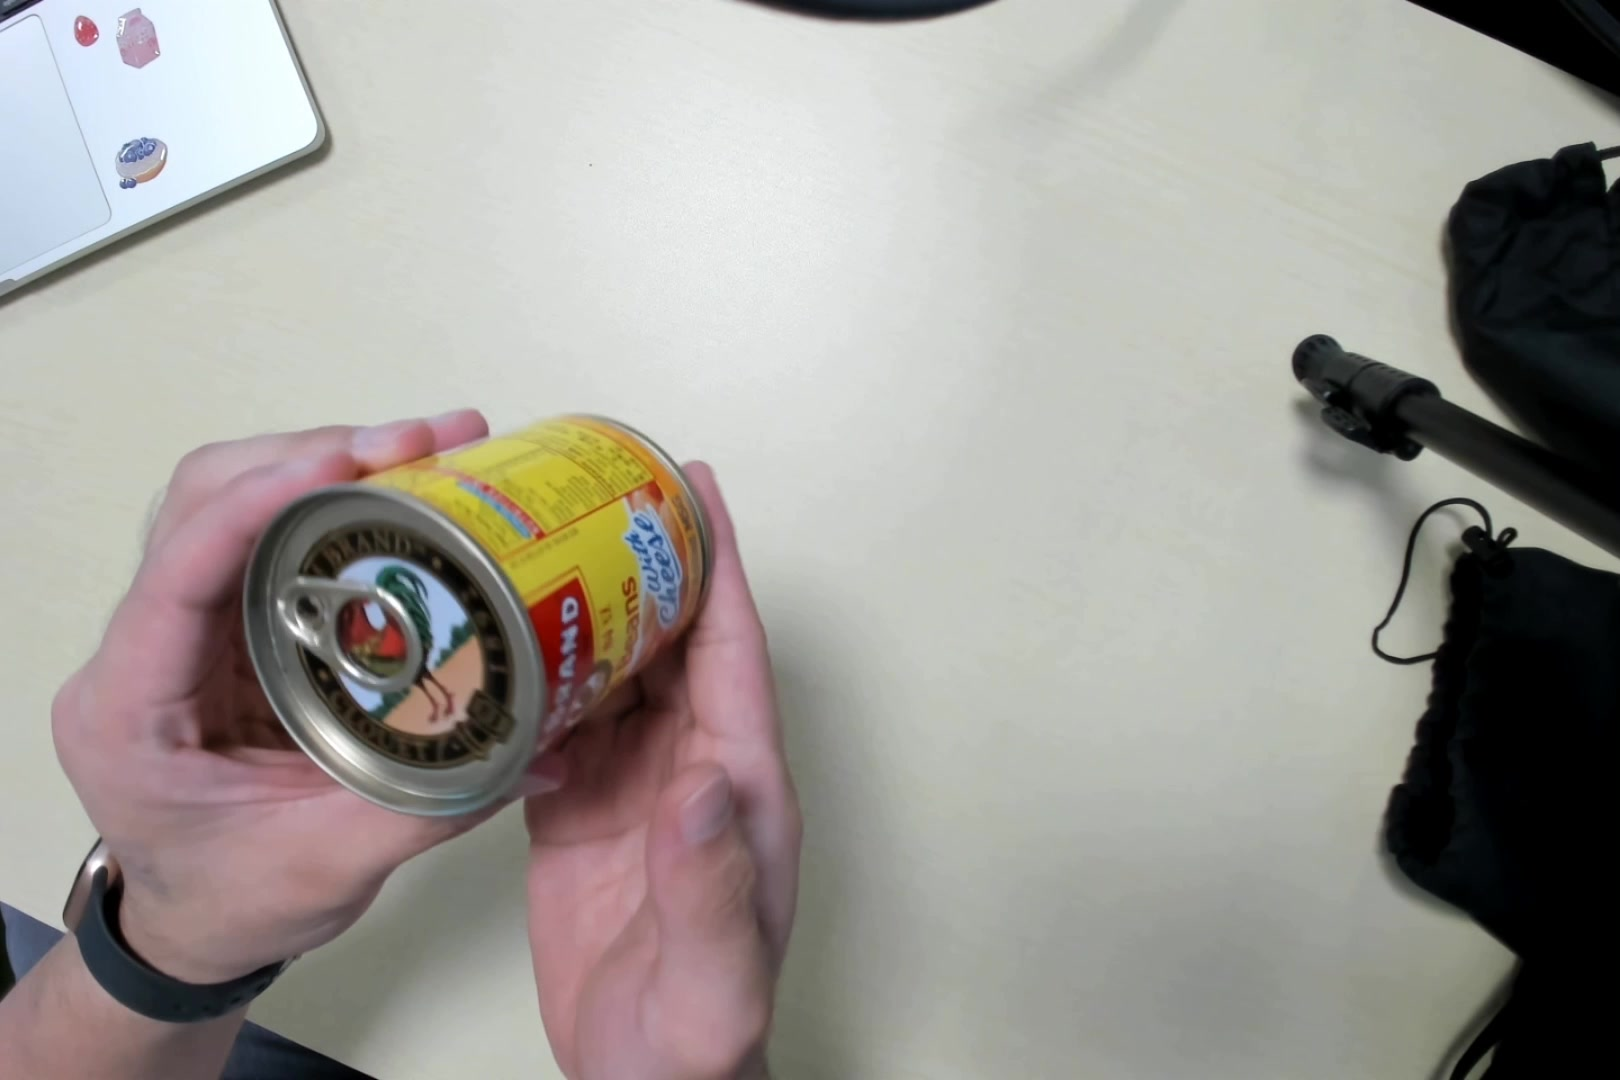CannedBakedBeans_200-299g_NonHalal_NonHealthy: (260, 407, 714, 812)
